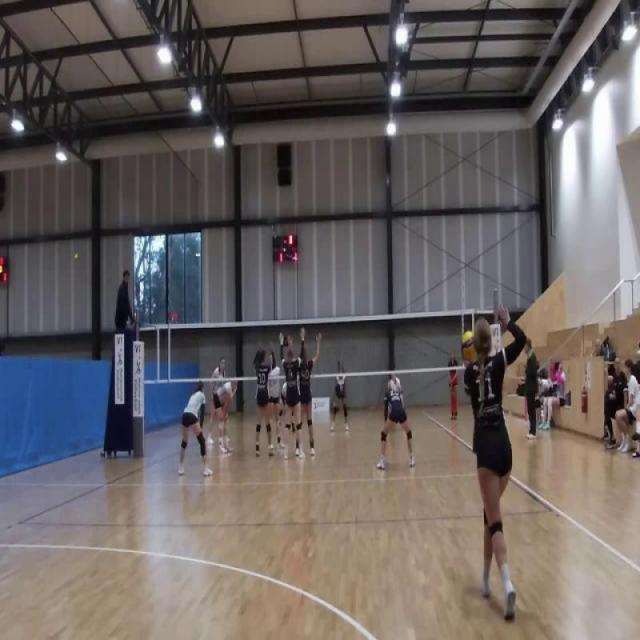volleyball: (459, 329, 479, 364)
